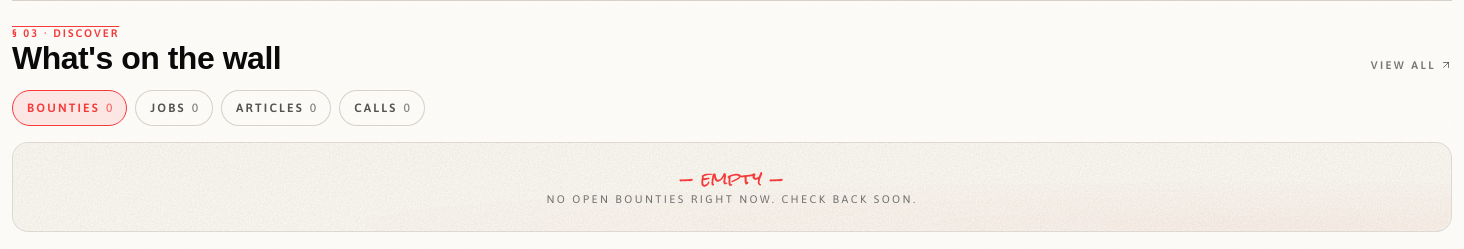
Test: <Discover /> › shows an empty state when a tab has zero items
The width and height of the screenshot is (1464, 249).
Check: the text "No open bounties right now. Check back soon." is shown, box [546, 192, 918, 204]
Click the tab "Jobs 0" at (174, 108), box [135, 90, 213, 126]
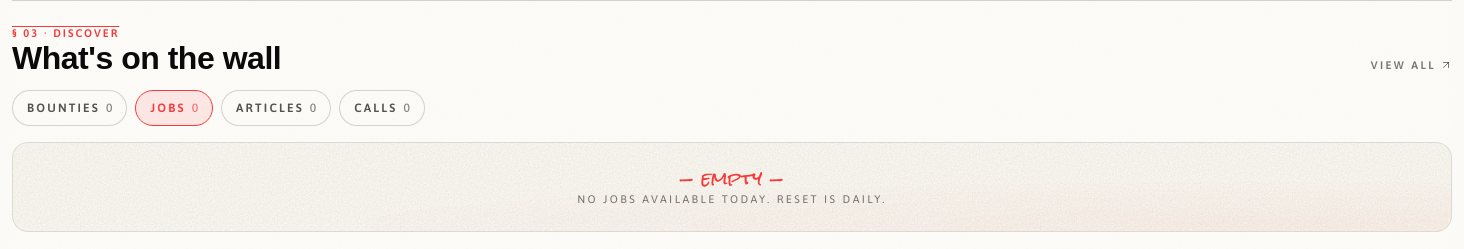
Check: the text "No jobs available today. Reset is daily." is shown, box [577, 192, 887, 204]
Click the tab "Articles 0" at (276, 108), box [221, 90, 331, 126]
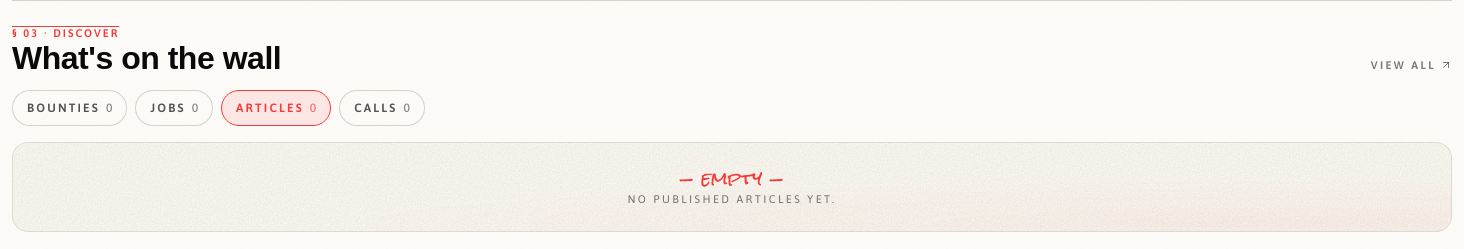
Check: the text "No published articles yet." is shown, box [628, 192, 836, 204]
Click the tab "Calls 0" at (382, 108), box [339, 90, 425, 126]
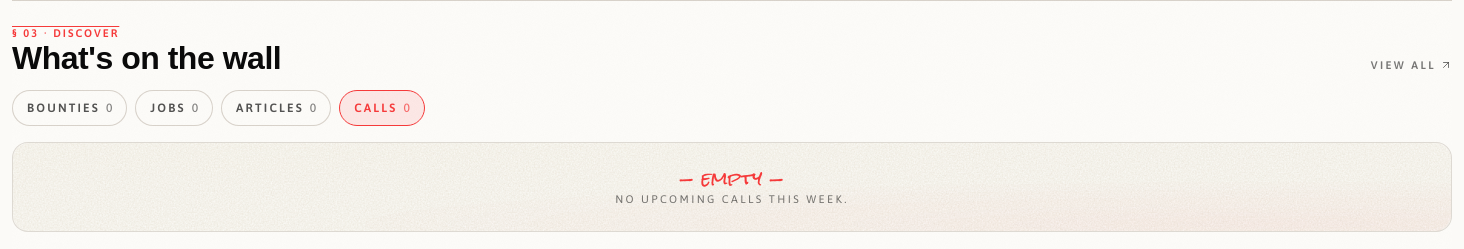
Check: the text "No upcoming calls this week." is shown, box [615, 192, 849, 204]
